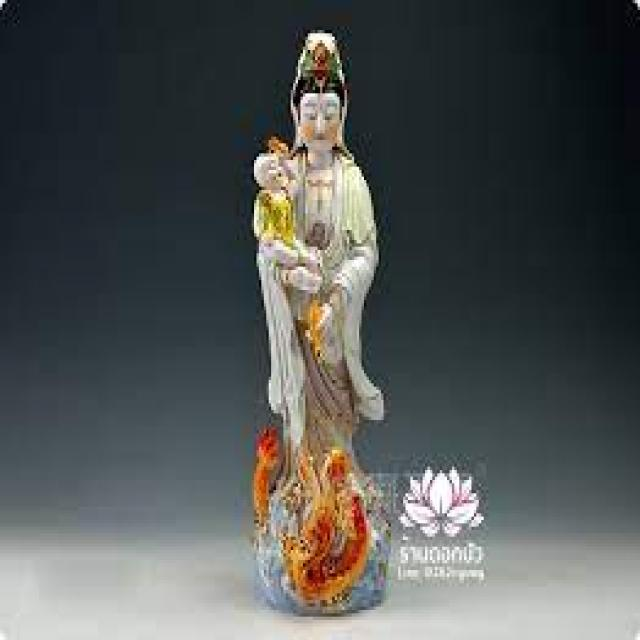Guan Yin: (255, 28, 378, 392)
